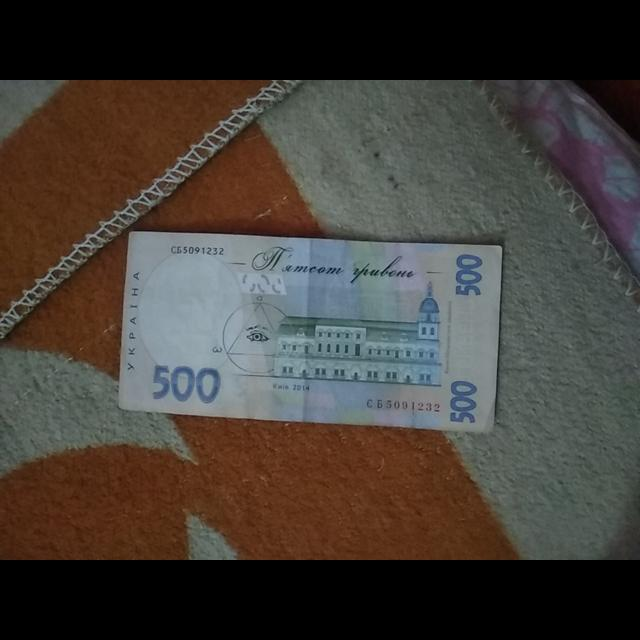500uah: (118, 228, 505, 433)
